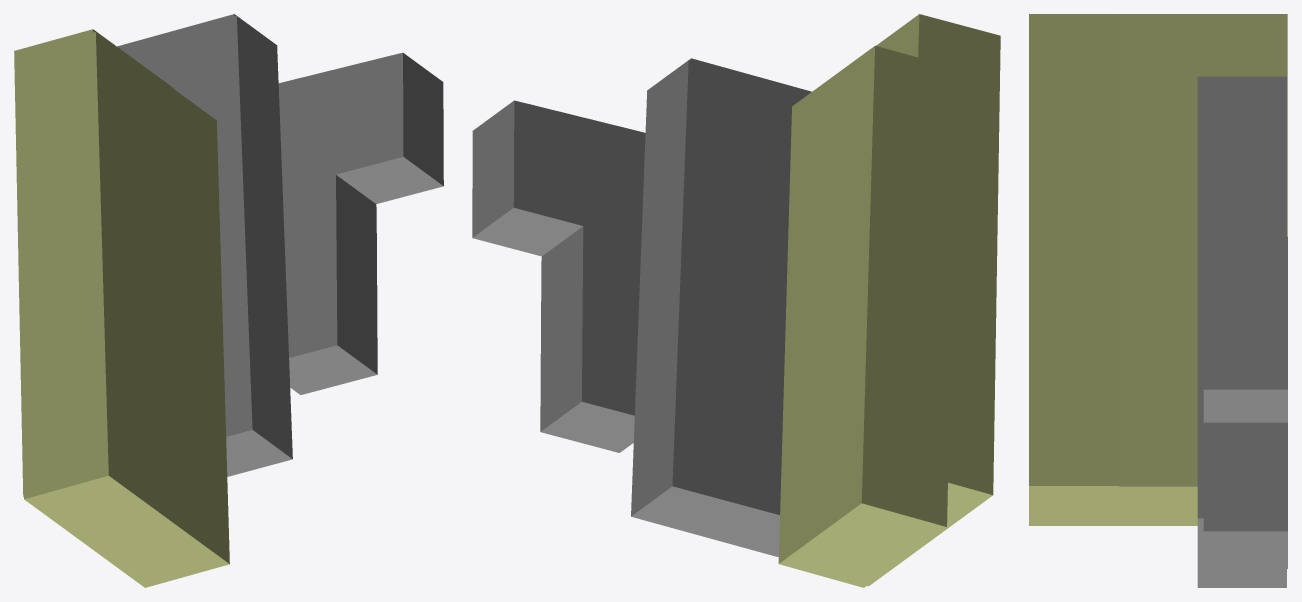
3 views of the same model, side by side, from view 1: azimuth 30°, elevation 25°; view 2: azimuth 150°, elevation 25°; view 3: azimuth 270°, elevation 25° (orthographic). The views are drawn at different scales.
Parts seen in each view (by area): view 1: 0_1_2_0_3_3_1_1_3_0; view 2: 0_1_2_0_3_3_1_1_3_0; view 3: 0_1_2_0_3_3_1_1_3_0.
Boxes of the visible parts, x1=… form: 0_1_2_0_3_3_1_1_3_0: x1=14, y1=14, x2=443, y2=587; 0_1_2_0_3_3_1_1_3_0: x1=472, y1=14, x2=1000, y2=587; 0_1_2_0_3_3_1_1_3_0: x1=1029, y1=14, x2=1287, y2=587.
Size of the model in its own units: 16.72 by 18.49 by 9.21.
